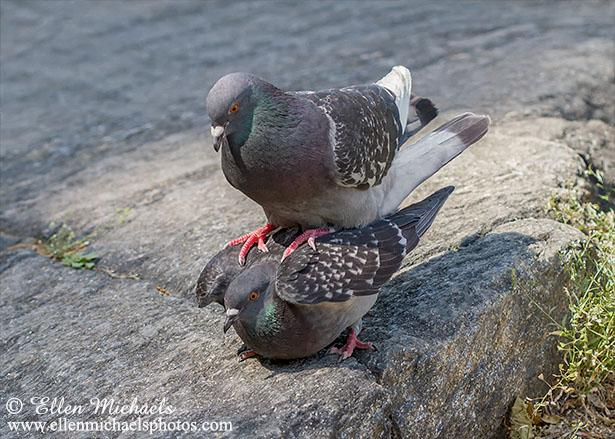Flying Rat: (191, 65, 480, 224), (174, 238, 424, 359)
